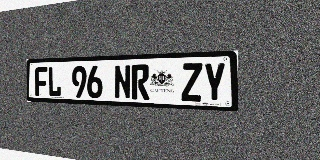6: (87, 65, 102, 98)
9: (72, 66, 87, 98)
F: (35, 67, 48, 96)
L: (48, 66, 61, 97)
N: (114, 65, 131, 99)
R: (131, 64, 149, 100)
Y: (203, 62, 226, 102)
Z: (181, 63, 202, 102)
